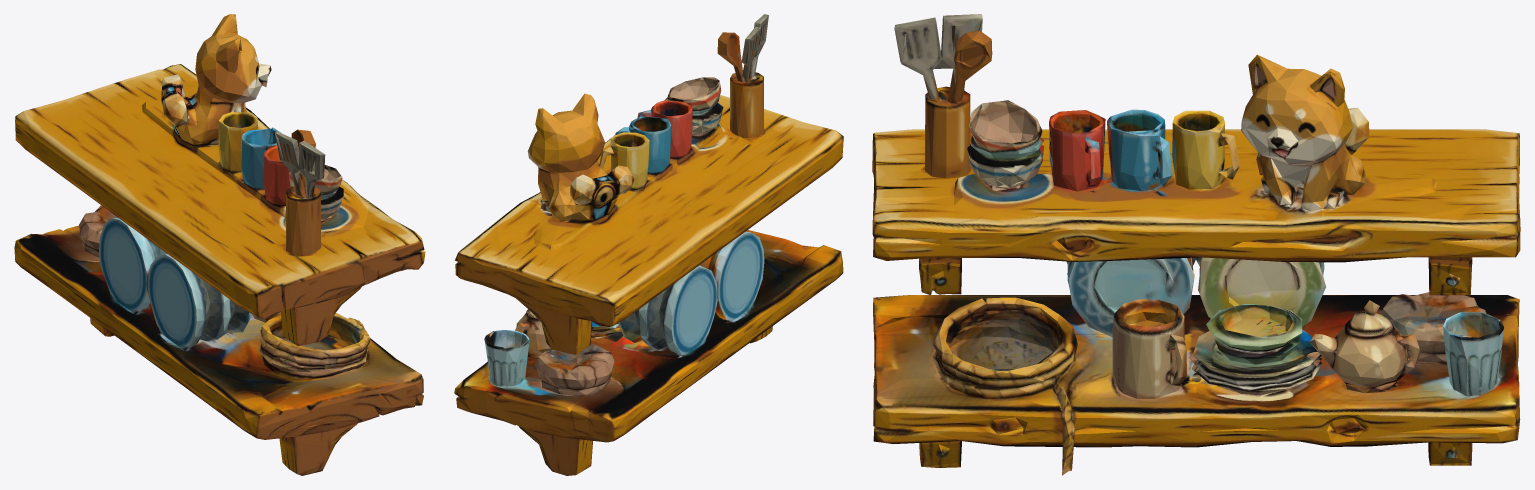
Rendered from kitchen+shelf+3d+model.fbx.
3 views of the same model, side by side, from view 1: azimuth 30°, elevation 25°; view 2: azimuth 150°, elevation 25°; view 3: azimuth 270°, elevation 25° (orthographic). The views are drawn at different scales.
Visible parts, largest first — view 1: tripo_node_fd683df2; view 2: tripo_node_fd683df2; view 3: tripo_node_fd683df2.
Part boxes in pixels (box(x1,y1,x2,y2)): tripo_node_fd683df2: box(14, 14, 425, 475); tripo_node_fd683df2: box(454, 14, 843, 475); tripo_node_fd683df2: box(872, 14, 1520, 475).
Size of the model in its own units: 0.4538 by 0.7494 by 0.999.
1 material, 1 textured.
